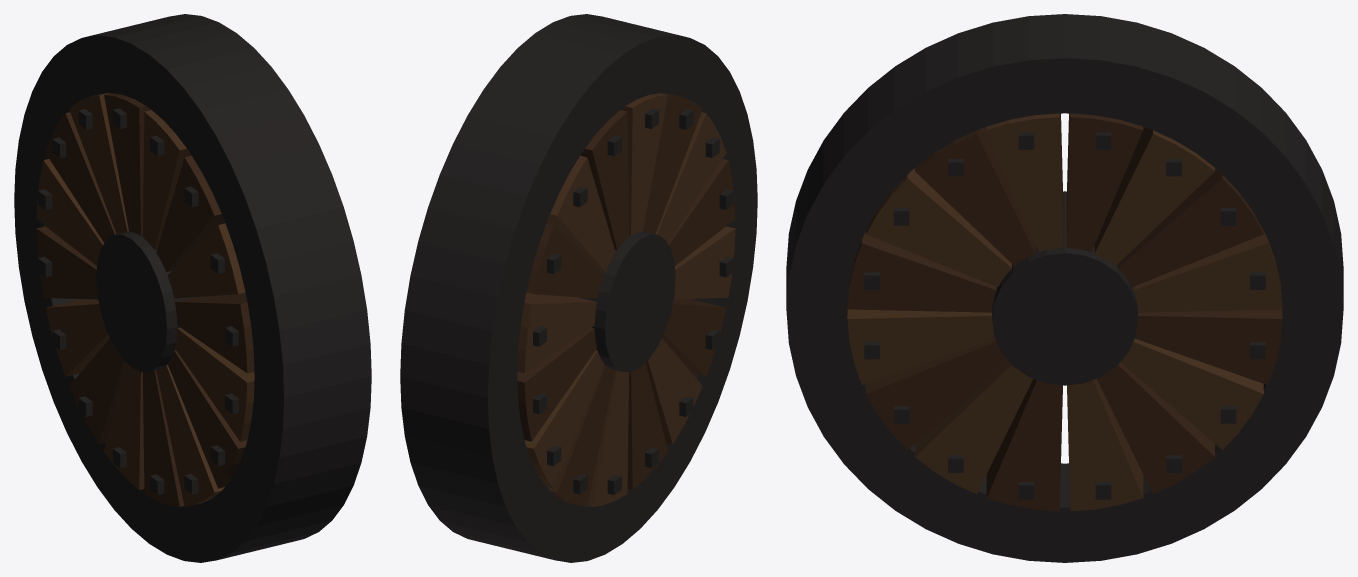
The model's file is MansellWheel.fbx.
The picture shows the model from 3 angles, left to right: view 1: azimuth 30°, elevation 25°; view 2: azimuth 150°, elevation 25°; view 3: azimuth 270°, elevation 25°; orthographic projection. The views are drawn at different scales.
Parts seen in each view (by area): view 1: MansellWheel; view 2: MansellWheel; view 3: MansellWheel.
Part boxes in pixels (left/top/right/bottom): MansellWheel: left=14, top=14, right=371, bottom=562; MansellWheel: left=400, top=14, right=757, bottom=562; MansellWheel: left=786, top=14, right=1343, bottom=562.
Size of the model in its own units: 0.84 by 3.2 by 3.2.
